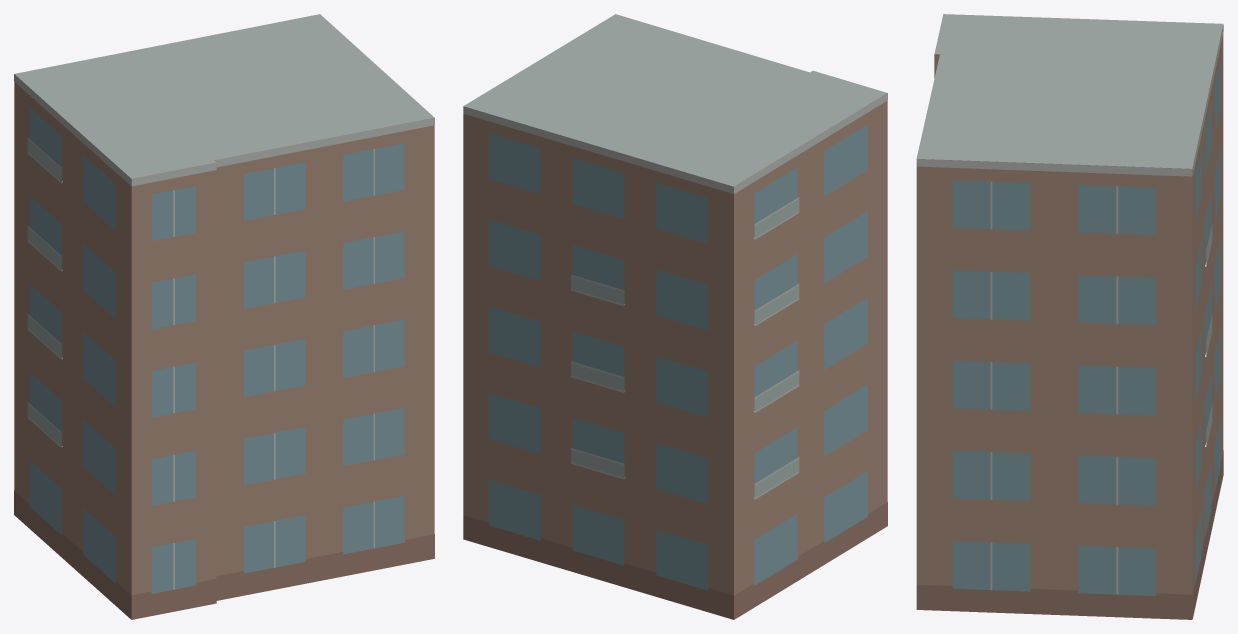
The model's file is survey-upis-32709254.glb.
3 views of the same model, side by side, from view 1: azimuth 30°, elevation 25°; view 2: azimuth 150°, elevation 25°; view 3: azimuth 270°, elevation 25° (orthographic). The views are drawn at different scales.
Visible parts, largest first — view 1: survey-upis-32709254.tmp; view 2: survey-upis-32709254.tmp; view 3: survey-upis-32709254.tmp.
Boxes of the visible parts, x1=… form: survey-upis-32709254.tmp: x1=14, y1=14, x2=434, y2=619; survey-upis-32709254.tmp: x1=463, y1=14, x2=887, y2=619; survey-upis-32709254.tmp: x1=916, y1=14, x2=1223, y2=619.
Bounding box in the file's own units: 10.47 × 14.2 × 8.77.
